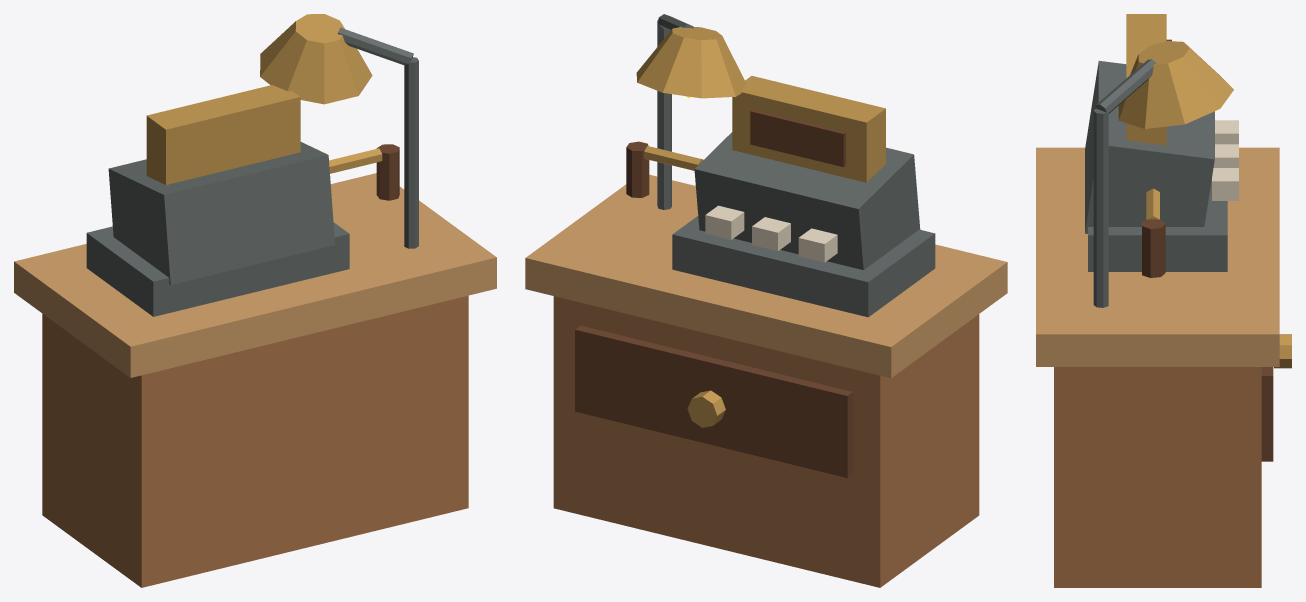
The model's file is cash-register.glb.
3 renders of one model, left to right at view 1: azimuth 30°, elevation 25°; view 2: azimuth 150°, elevation 25°; view 3: azimuth 270°, elevation 25°, orthographic. The views are drawn at different scales.
Parts seen in each view (by area): view 1: Cabinet, CounterSlab, RegisterBody, RegisterDisplay, RegisterBase, LampShade, LampPost, CrankHandle, LampNeck, Crank; view 2: Cabinet, CounterSlab, Drawer, RegisterBody, RegisterBase, RegisterDisplay, LampShade, RegisterDisplayFace, LampPost, CrankHandle, Key0, Key2 (+3 smaller); view 3: Cabinet, CounterSlab, RegisterBody, LampShade, RegisterBase, LampPost, RegisterDisplay, CrankHandle, Drawer, LampNeck, Key2, Key0 (+3 smaller).
Part boxes in pixels (x1,y1,x2,y2): Cabinet: [42, 295, 468, 587]; CounterSlab: [14, 173, 496, 377]; RegisterBody: [108, 142, 335, 284]; RegisterDisplay: [146, 85, 300, 184]; RegisterBase: [86, 222, 349, 316]; LampShade: [260, 14, 372, 104]; LampPost: [404, 57, 418, 248]; CrankHandle: [376, 144, 399, 200]; LampNeck: [337, 27, 413, 64]; Crank: [329, 148, 382, 173]; Cabinet: [553, 296, 979, 587]; CounterSlab: [525, 174, 1007, 378]; Drawer: [575, 325, 852, 477]; RegisterBody: [694, 132, 920, 269]; RegisterBase: [672, 216, 935, 317]; RegisterDisplay: [732, 76, 885, 182]; LampShade: [636, 26, 746, 98]; RegisterDisplayFace: [750, 109, 845, 167]; LampPost: [657, 20, 671, 209]; CrankHandle: [626, 141, 649, 197]; Key0: [798, 228, 837, 262]; Key2: [705, 205, 744, 239]; Cabinet: [1054, 367, 1261, 587]; CounterSlab: [1036, 147, 1279, 366]; RegisterBody: [1085, 60, 1214, 233]; LampShade: [1118, 41, 1233, 128]; RegisterBase: [1088, 179, 1227, 271]; LampPost: [1093, 108, 1108, 307]; RegisterDisplay: [1126, 14, 1166, 145]; CrankHandle: [1142, 219, 1165, 277]; Drawer: [1261, 367, 1273, 461]; LampNeck: [1096, 59, 1156, 113]; Key2: [1212, 168, 1238, 200]; Key0: [1215, 120, 1238, 144].
Size of the model in its own units: 1.96 by 2.4 by 1.14.
